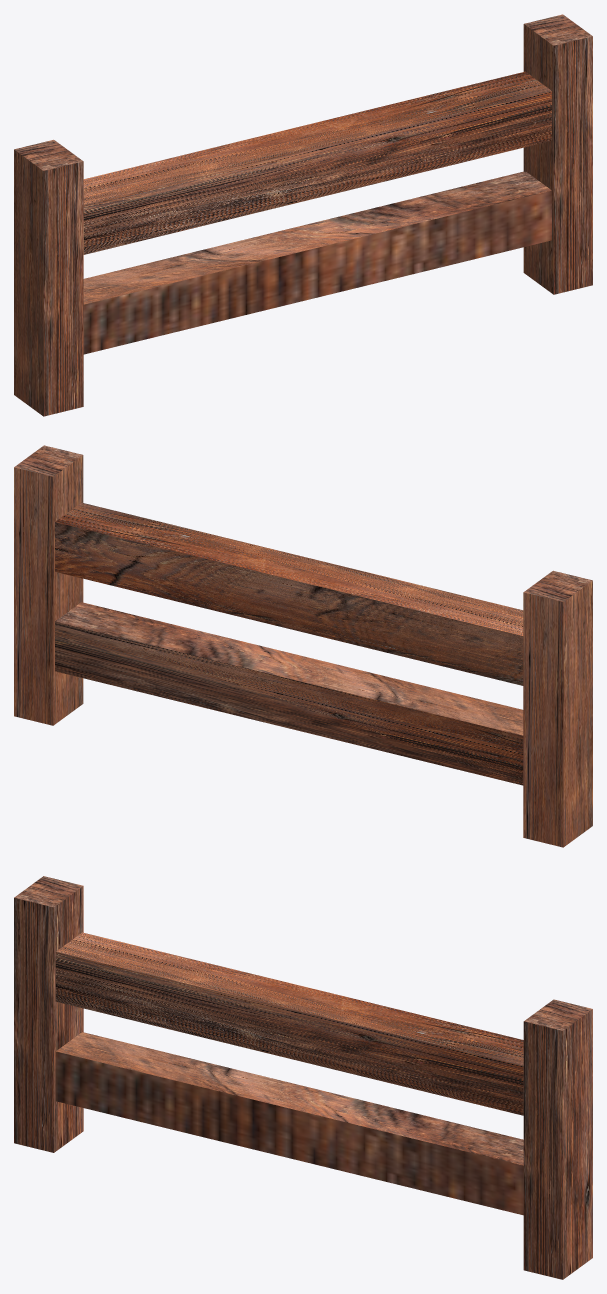
Rendered from fence1.glb.
3 renders of one model, top to bottom at view 1: azimuth 30°, elevation 25°; view 2: azimuth 150°, elevation 25°; view 3: azimuth 330°, elevation 25°, orthographic.
Parts seen in each view (by area): view 1: Fence; view 2: Fence; view 3: Fence.
Boxes of the visible parts, x1,y1,x2,y2 form: Fence: (14, 14, 592, 416); Fence: (14, 445, 592, 847); Fence: (14, 876, 592, 1279).
Bounding box in the file's own units: 4.62 × 2 × 0.4374.
Materials: 1 (1 with a texture image).
